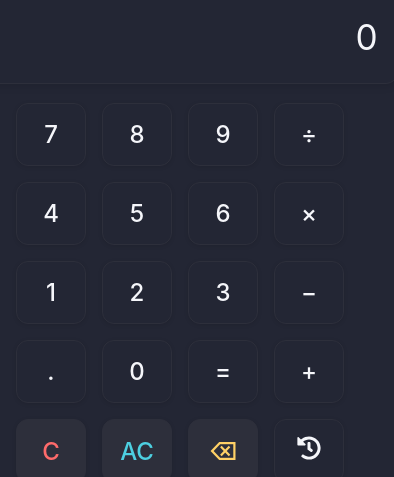
Test case: Calculator › performs addition
The width and height of the screenshot is (394, 477).
Step 1. Click the button "1" → (51, 293), box [16,261,86,324]
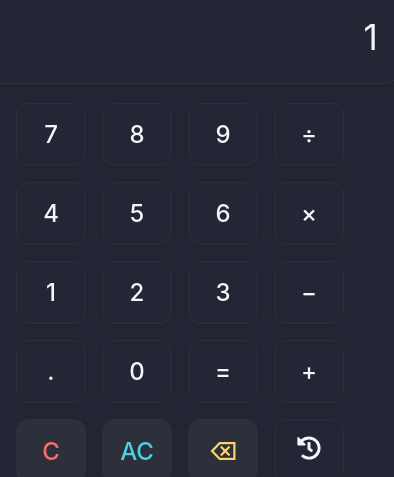
Step 2. Click the button "+" → (309, 372), box [274,340,344,403]
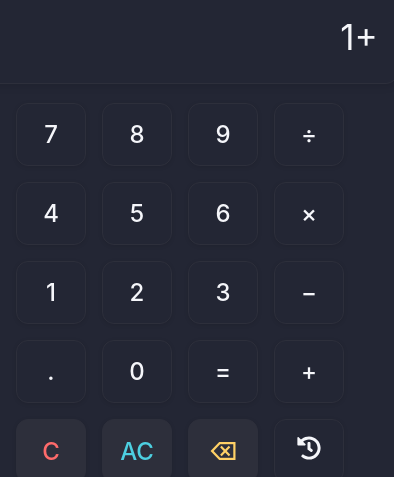
Step 3. Click the button "2" → (137, 293), box [102,261,172,324]
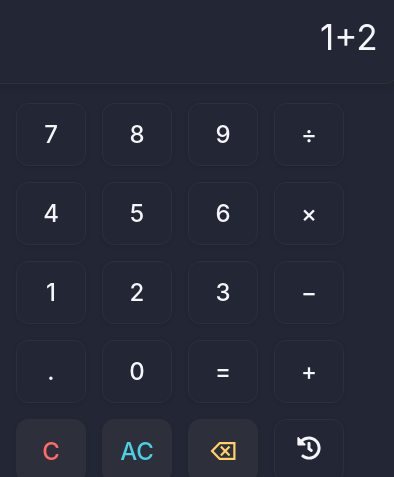
Step 4. Click the button "=" → (223, 372), box [188,340,258,403]
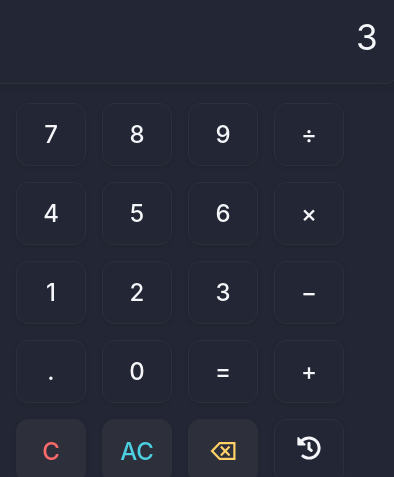
Expected: the text named "display" reads "3", [356,16,378,58]
